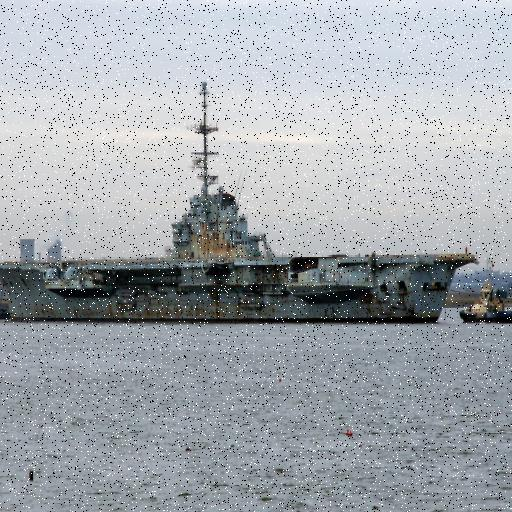Portanaves: (1, 75, 484, 326)
